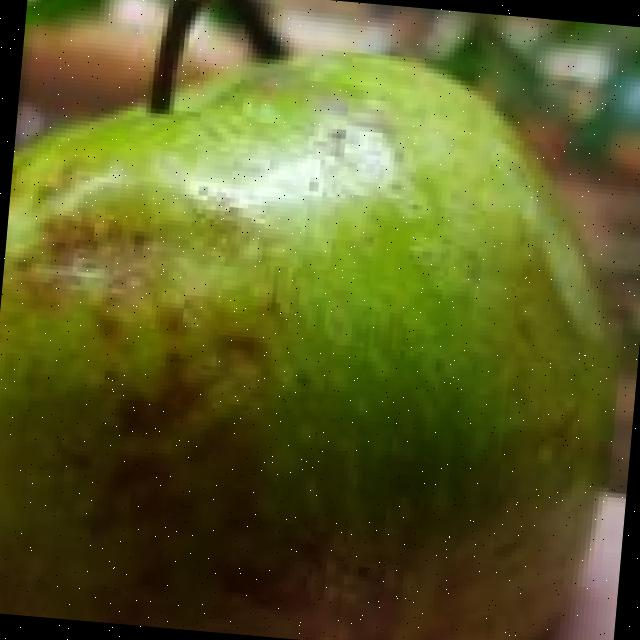Good_Apple 10-21 days: (0, 63, 613, 640)
